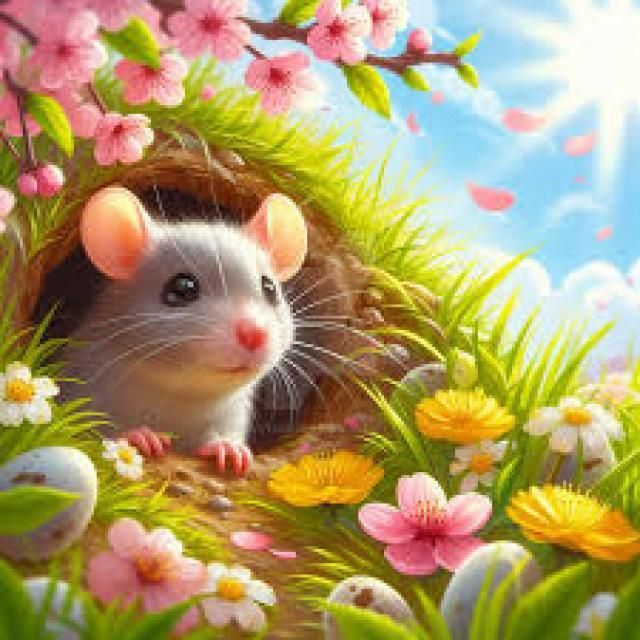Rat: (51, 151, 313, 463)
